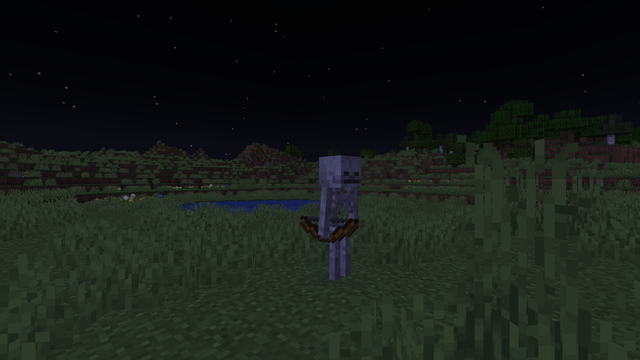squelettes: (314, 155, 364, 287)
